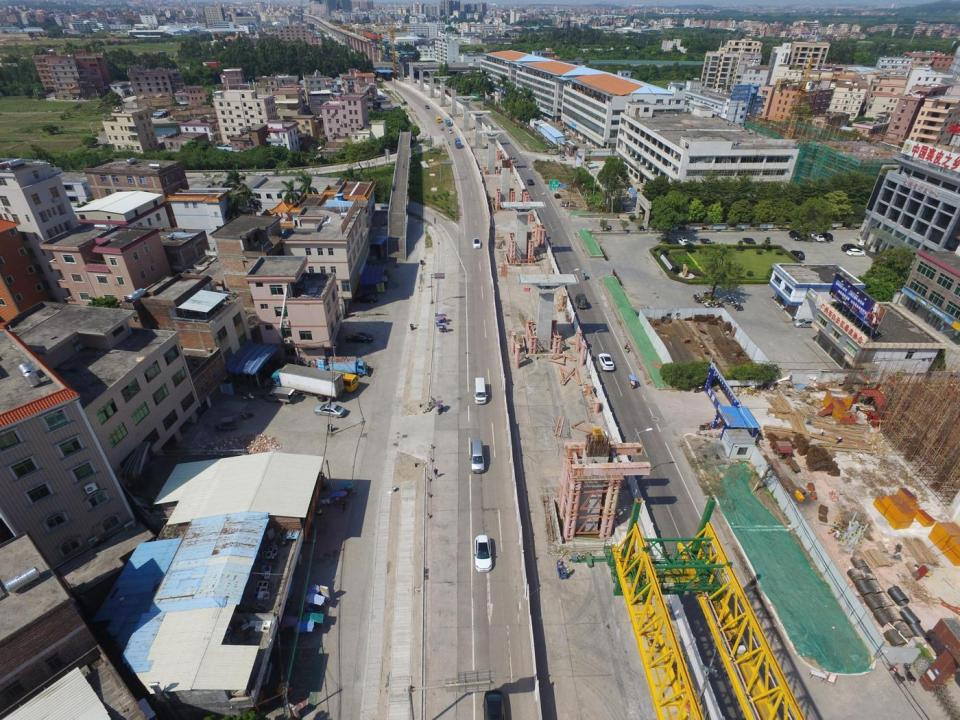bus: (330, 369, 358, 393)
car: (474, 535, 492, 572), (314, 403, 346, 419), (346, 332, 373, 343), (598, 353, 614, 371), (354, 294, 378, 304), (841, 244, 862, 252), (790, 249, 805, 260), (846, 248, 866, 256), (788, 230, 801, 241), (742, 237, 756, 245), (472, 238, 482, 249), (676, 237, 689, 245), (811, 234, 824, 241), (822, 233, 833, 241), (699, 239, 712, 244), (526, 179, 534, 185)
truck: (271, 363, 345, 402), (328, 357, 370, 377), (266, 387, 294, 405), (576, 294, 587, 309)
van: (470, 439, 485, 473), (475, 378, 488, 404), (511, 156, 516, 162), (560, 154, 565, 160)
